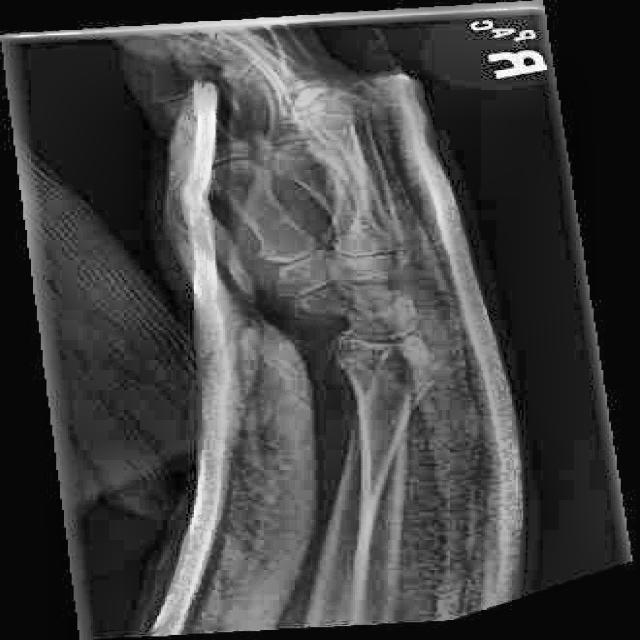fingers positive: (325, 333, 459, 425)
